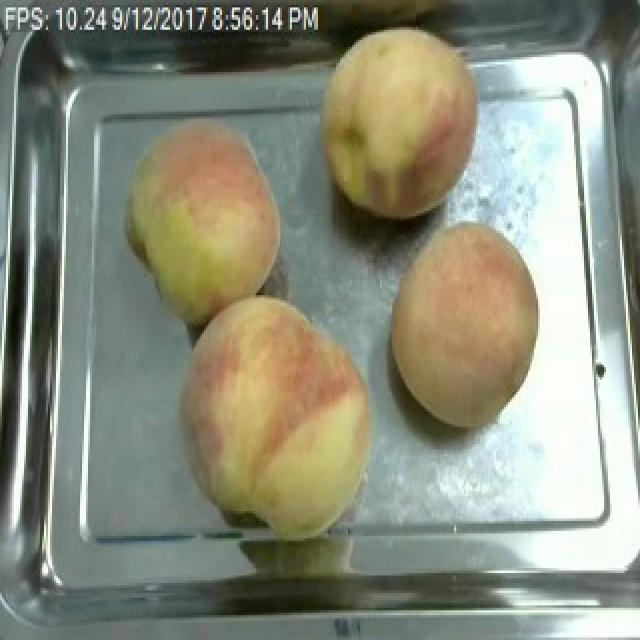Fruit: (170, 288, 384, 541), (308, 15, 490, 228), (118, 111, 290, 332), (380, 211, 548, 436)
